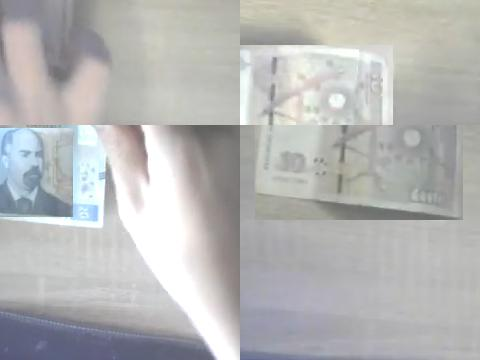10leva: (255, 125, 463, 220), (240, 45, 393, 125)
20leva: (0, 128, 73, 217)
